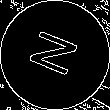N_E: (24, 27, 86, 83)
